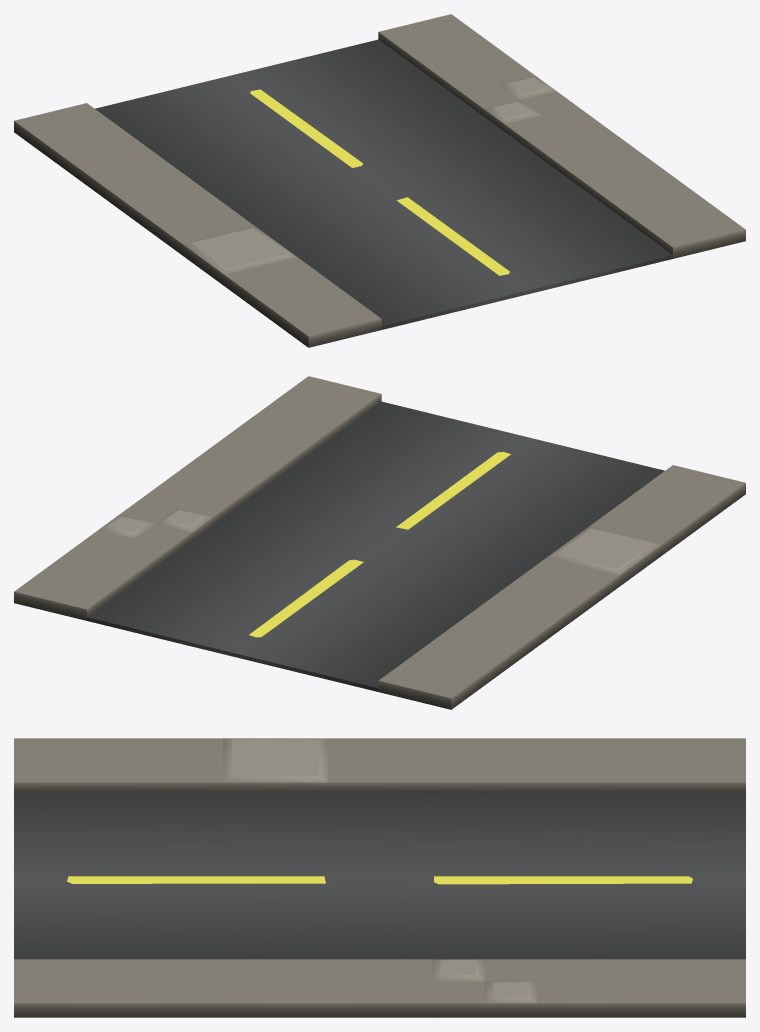
The model's file is Road_1A_+2.fbx.
3 views of the same model, one above another, from view 1: azimuth 30°, elevation 25°; view 2: azimuth 150°, elevation 25°; view 3: azimuth 270°, elevation 25° (orthographic). The views are drawn at different scales.
Visible parts, largest first — view 1: Road_1A_+2; view 2: Road_1A_+2; view 3: Road_1A_+2.
Part boxes in pixels (x1,y1,x2,y2): Road_1A_+2: (14, 14, 745, 347); Road_1A_+2: (14, 376, 745, 709); Road_1A_+2: (14, 738, 745, 1017).
Bounding box in the file's own units: 12 × 0.3565 × 14.
